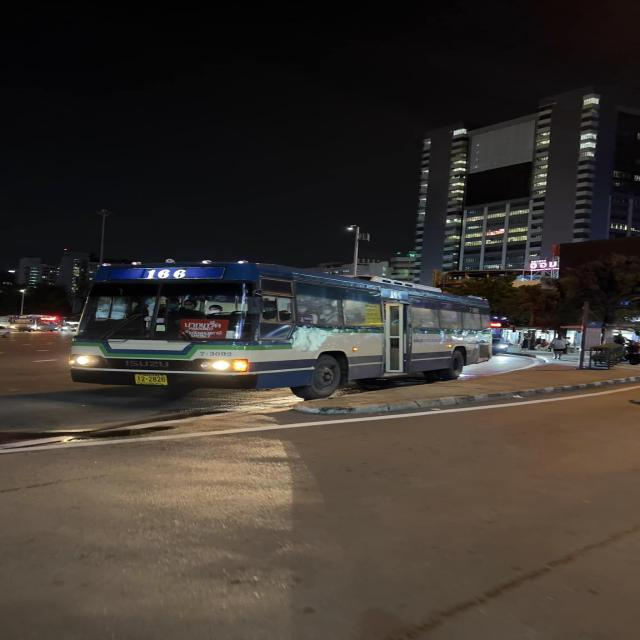BMTA-bus: (64, 254, 496, 411)
Bus-Line-Number: (137, 268, 193, 280)
Destination-Sign-Extra-Bus: (180, 320, 230, 340)
